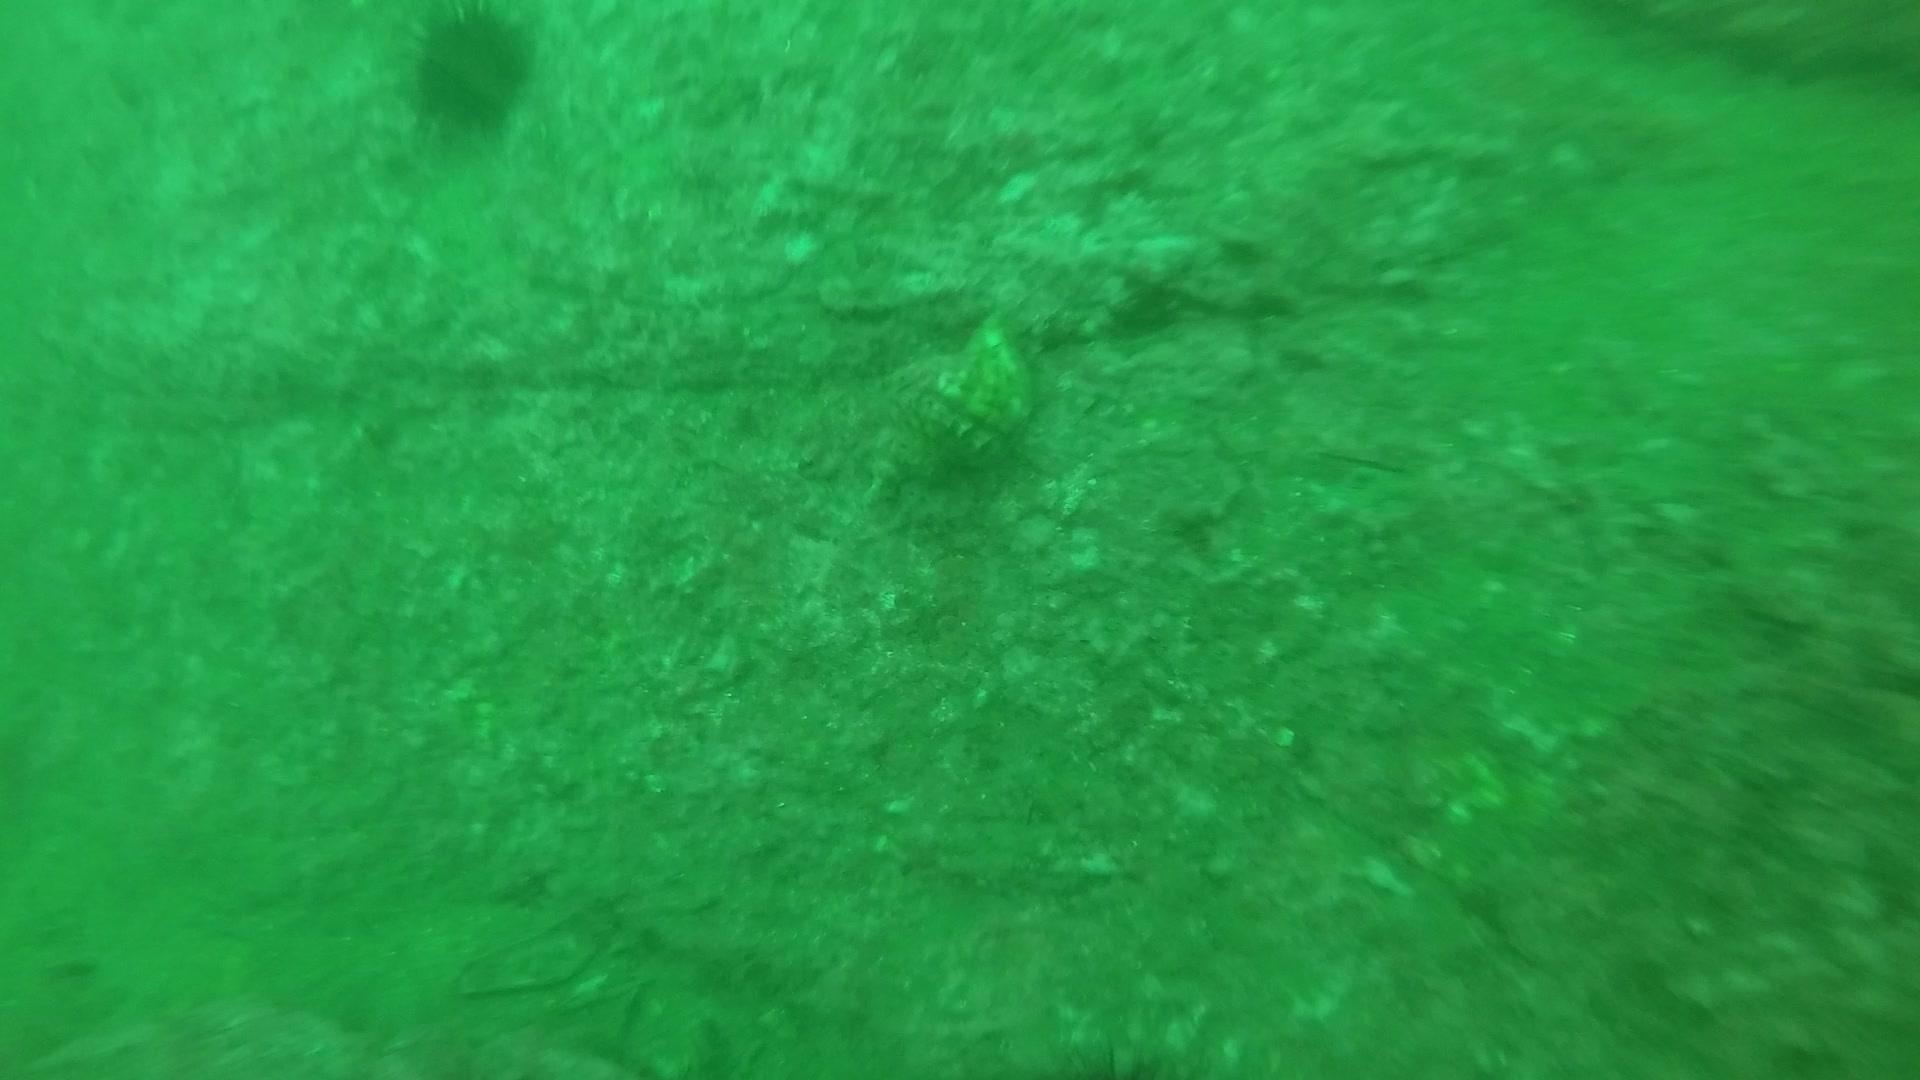echinus: (396, 0, 545, 141)
